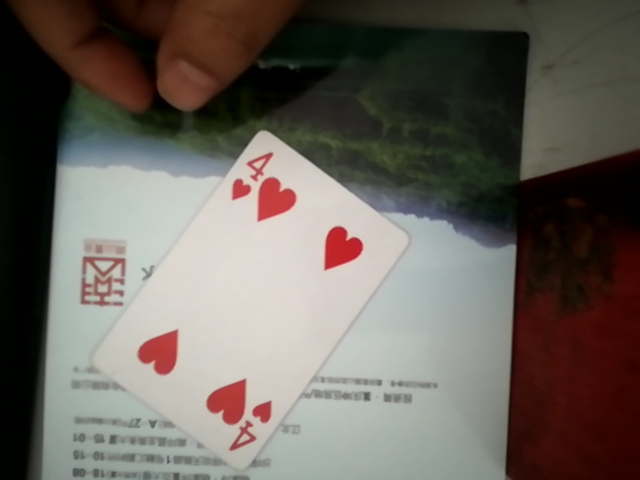hx 4: (75, 127, 403, 463)
